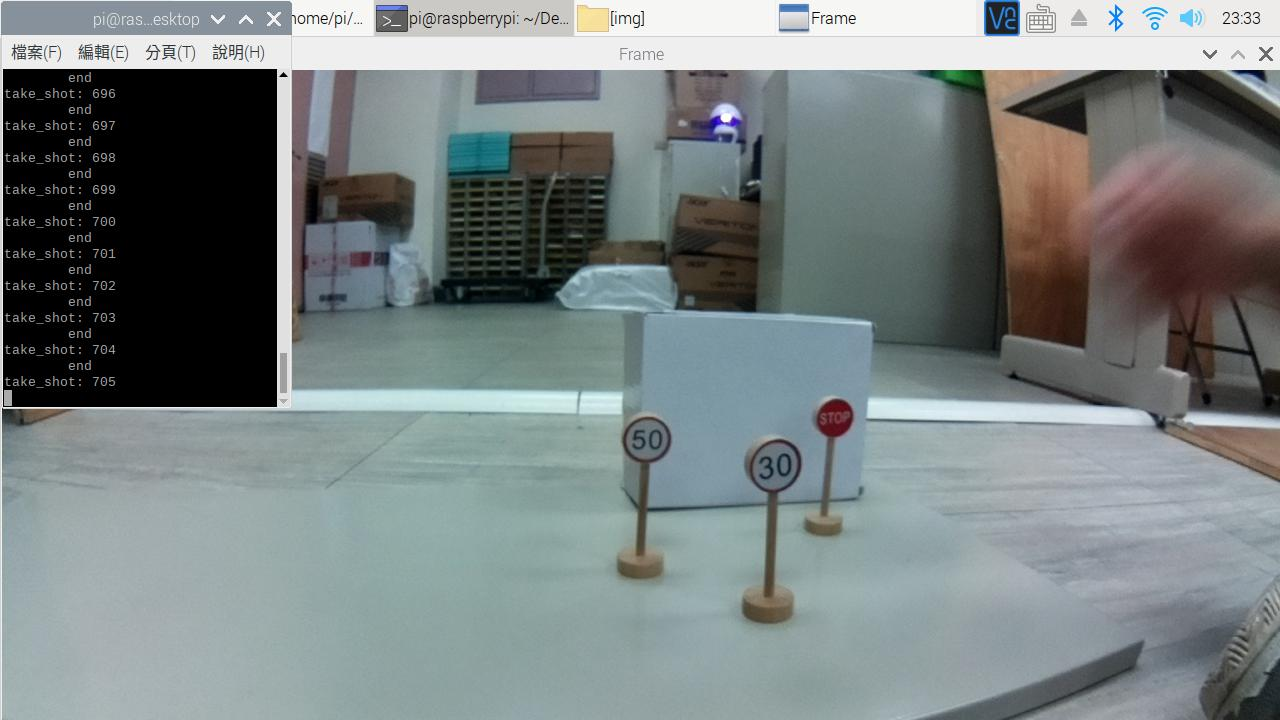Speed30: (738, 430, 807, 501)
Speed50: (620, 405, 683, 469)
Stop: (801, 386, 866, 440)
